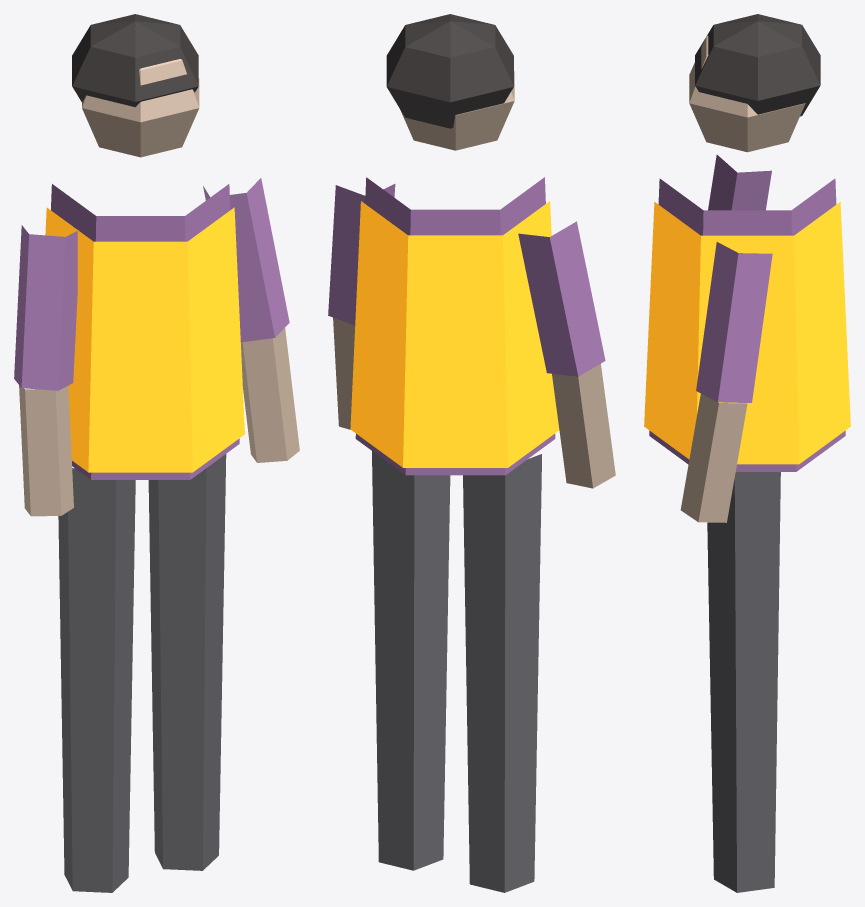
The model's file is staff_mechanic.glb.
3 views of the same model, side by side, from view 1: azimuth 30°, elevation 25°; view 2: azimuth 150°, elevation 25°; view 3: azimuth 270°, elevation 25° (orthographic).
Visible parts, largest first — view 1: staff_mechanic; view 2: staff_mechanic; view 3: staff_mechanic.
Boxes of the visible parts, x1,y1,x2,y2 form: staff_mechanic: (14, 14, 299, 892); staff_mechanic: (328, 14, 615, 892); staff_mechanic: (644, 14, 850, 892).
Bounding box in the file's own units: 0.595 × 1.78 × 0.4.
